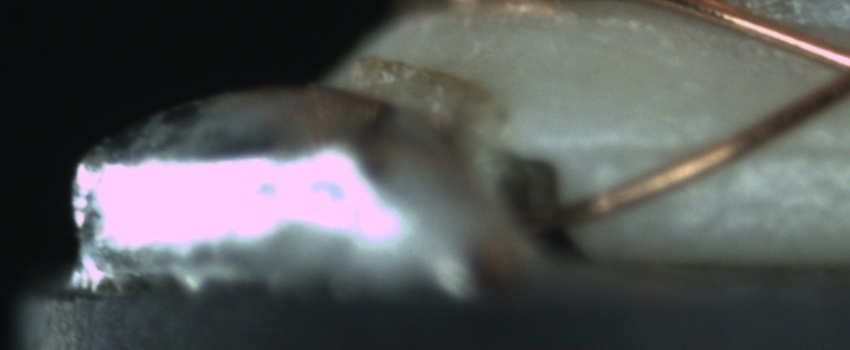DL: (567, 116, 850, 182)
